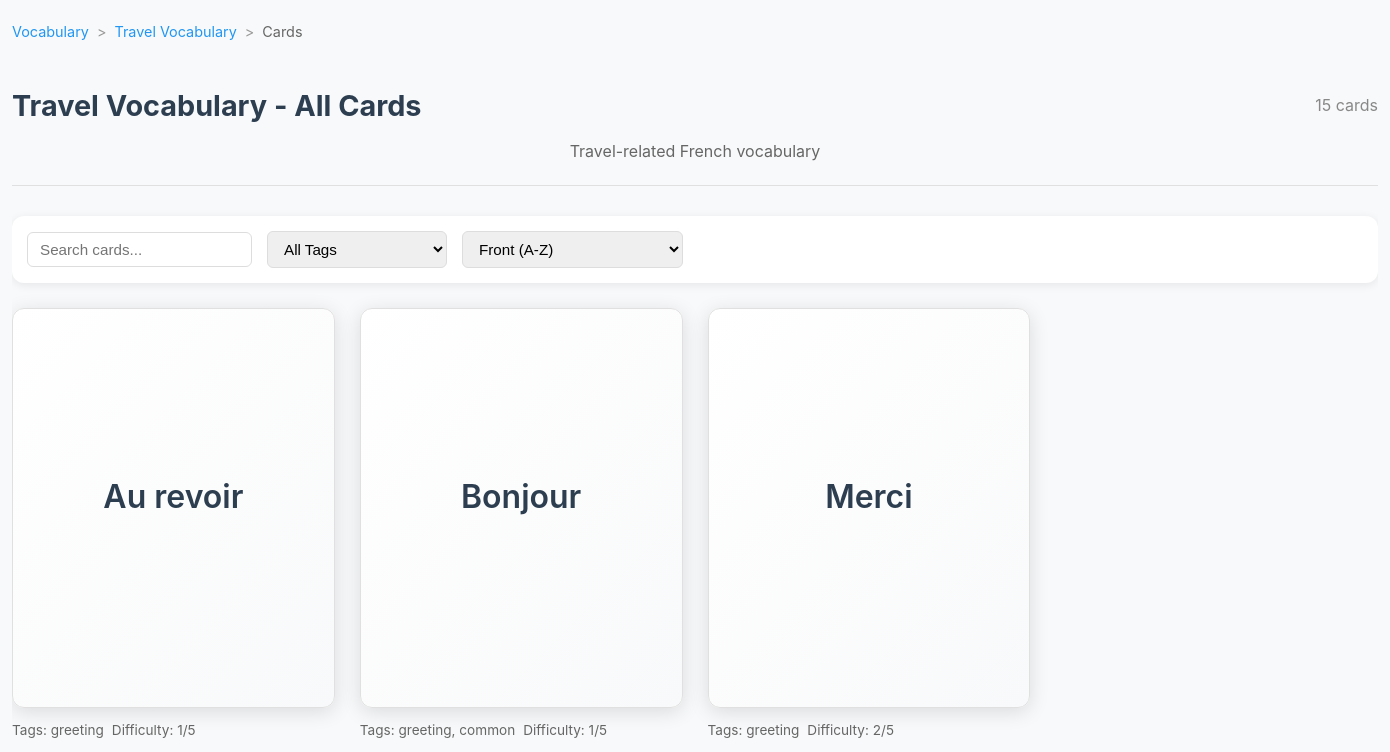
it: DeckCardsPage Component › clears all filters when clear button is clicked
Note: Apply search filter
Type "Bonjour" into the field with test id "deck-cards-search-input".
click(140, 249); type("Bonjour")  # box [27,232,252,267]
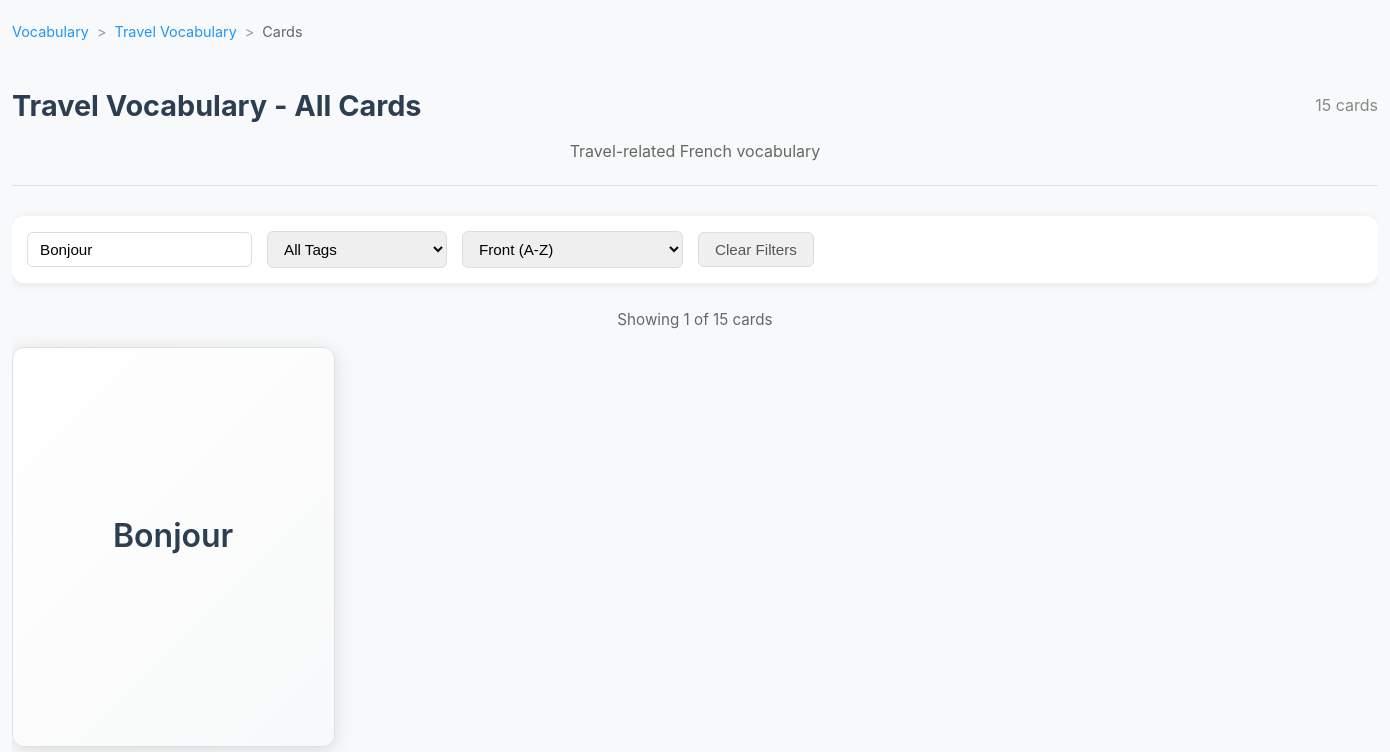
Note: Clear filters
Click the button with test id "deck-cards-clear-filters".
click(756, 249)  # box [698,232,814,267]
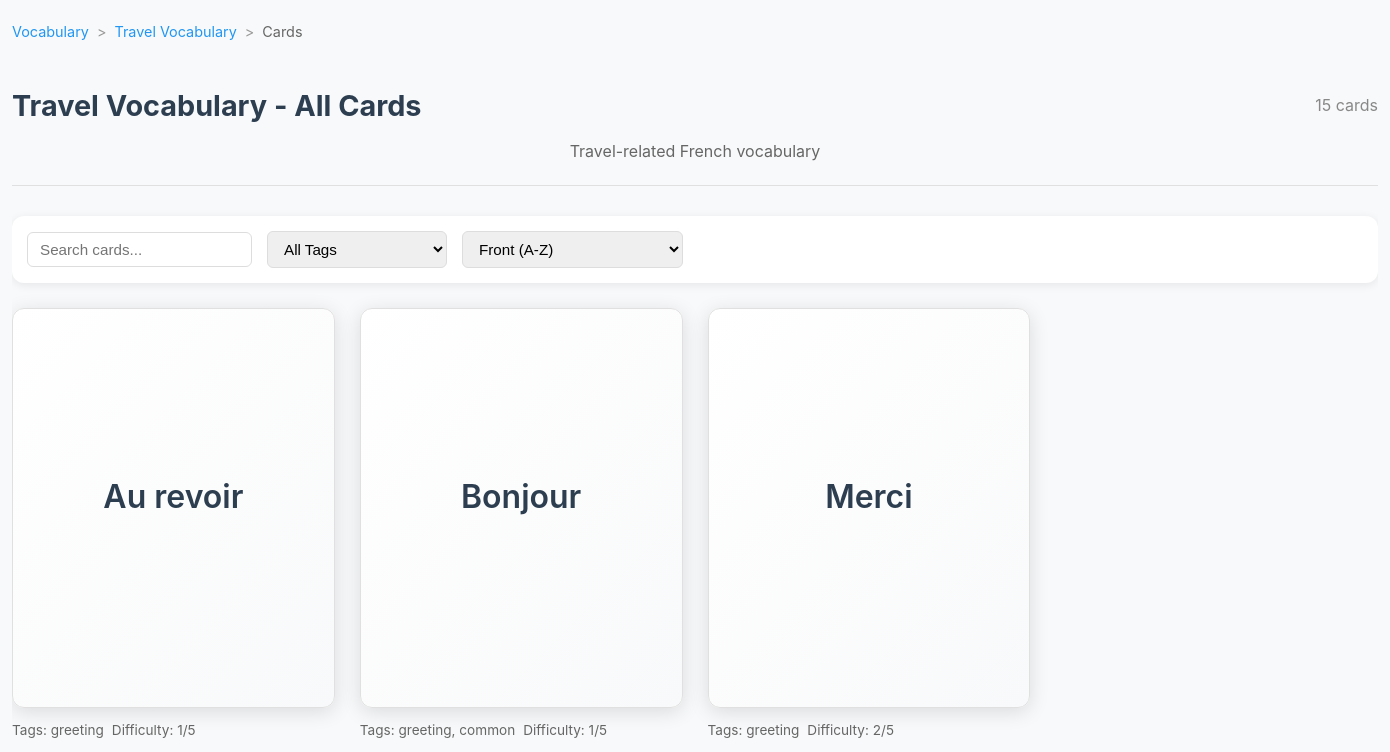
expect the field with test id "deck-cards-search-input" is empty: met, box [27,232,252,267]
